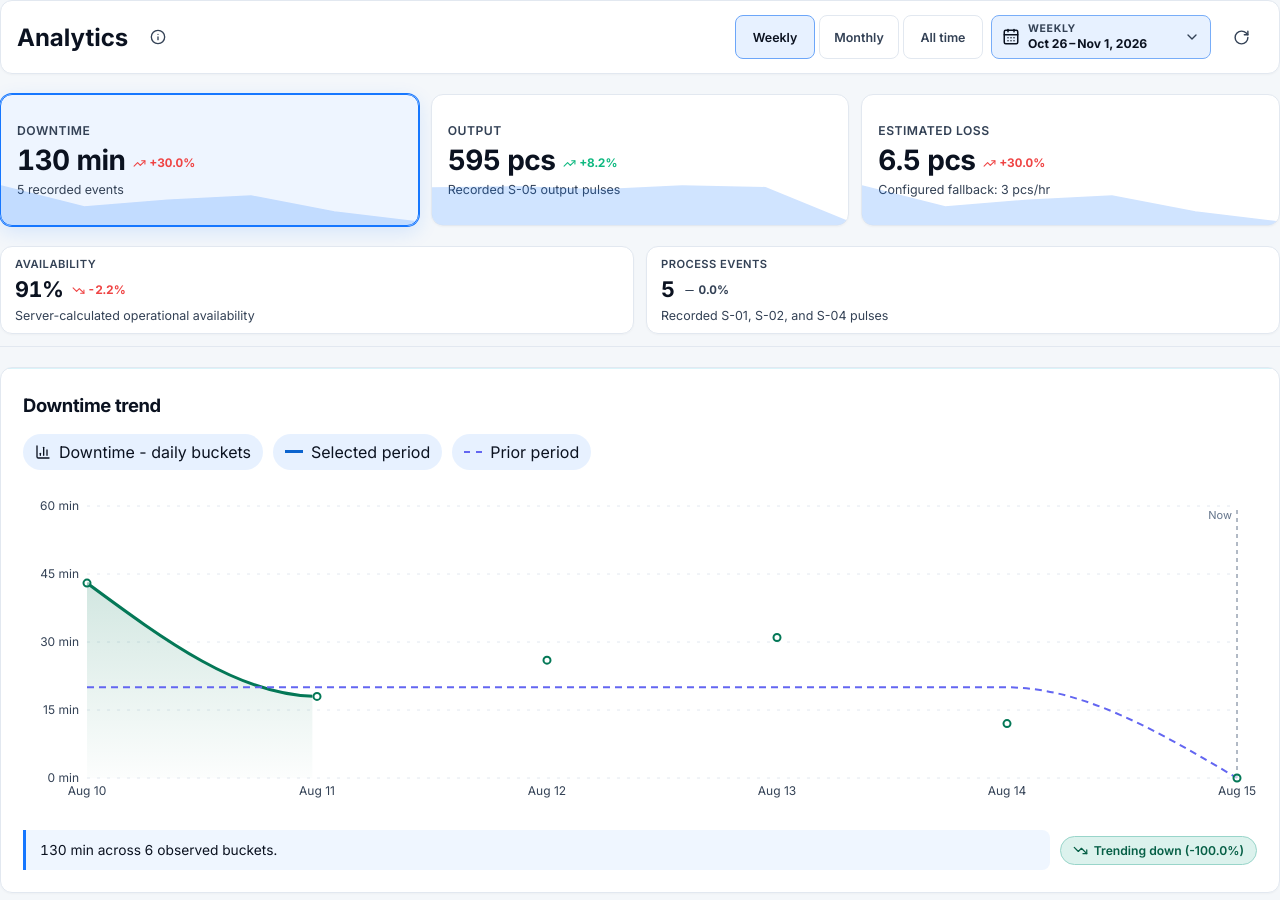
it: AnalyticsSection recorded-data states › keeps the last successful recorded result visible when refresh fails
expect the heading "Analytics" is shown: met, box [17,22,128,52]
Click the button named "Refresh data" at (1241, 37), box [1219,15,1263,59]
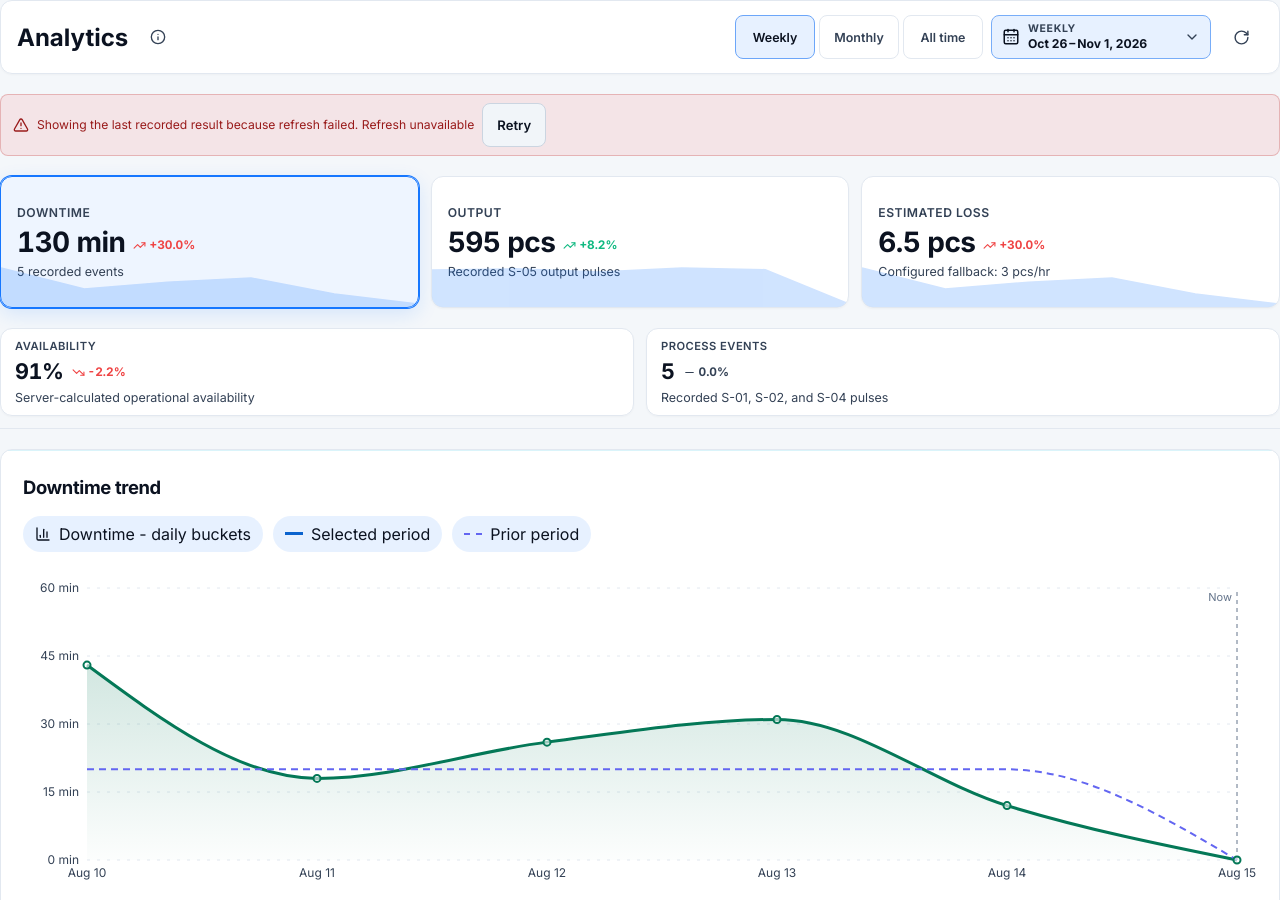
expect the text "130 min" is shown: met, box [17,226,126,258]
expect the message shows "Showing the last recorded result because refresh failed.": met, box [37,118,362,132]
